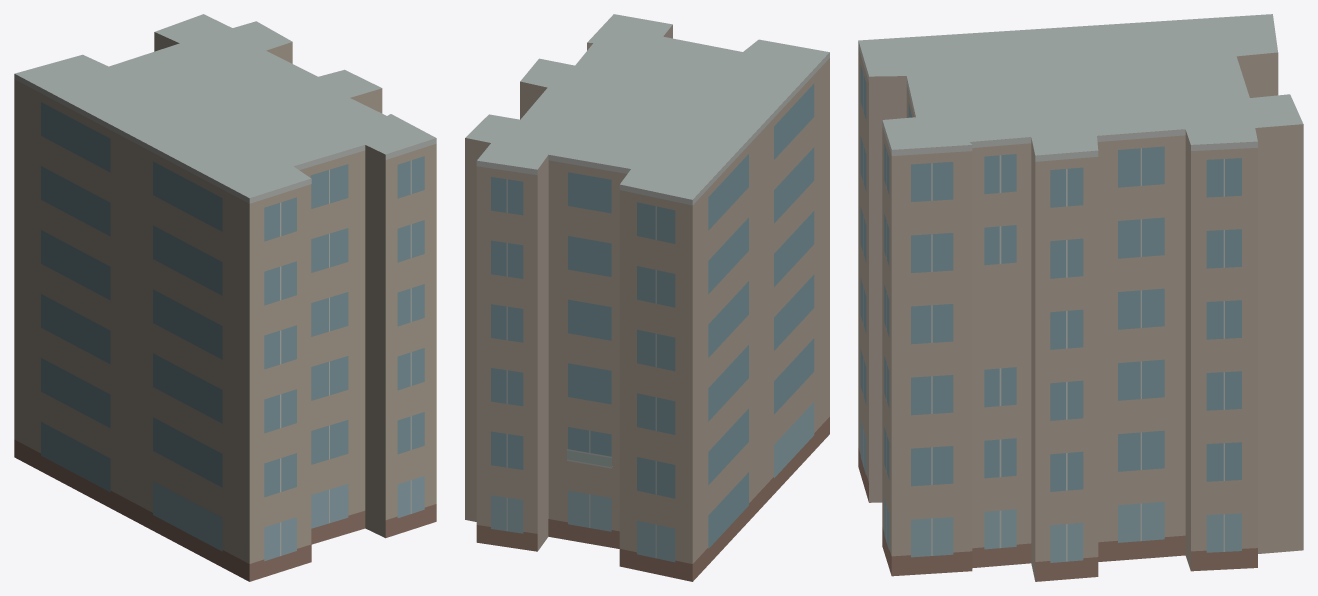
Rendered from survey-upis-32575368.glb.
The picture shows the model from 3 angles, left to right: view 1: azimuth 30°, elevation 25°; view 2: azimuth 150°, elevation 25°; view 3: azimuth 270°, elevation 25°; orthographic projection. The views are drawn at different scales.
Parts seen in each view (by area): view 1: survey-upis-32575368.tmp; view 2: survey-upis-32575368.tmp; view 3: survey-upis-32575368.tmp.
Boxes of the visible parts, <box> form: survey-upis-32575368.tmp: <box>14,14,436,581</box>; survey-upis-32575368.tmp: <box>465,14,829,581</box>; survey-upis-32575368.tmp: <box>858,14,1303,581</box>.
Bounding box in the file's own units: 11.91 × 16.7 × 15.81.
